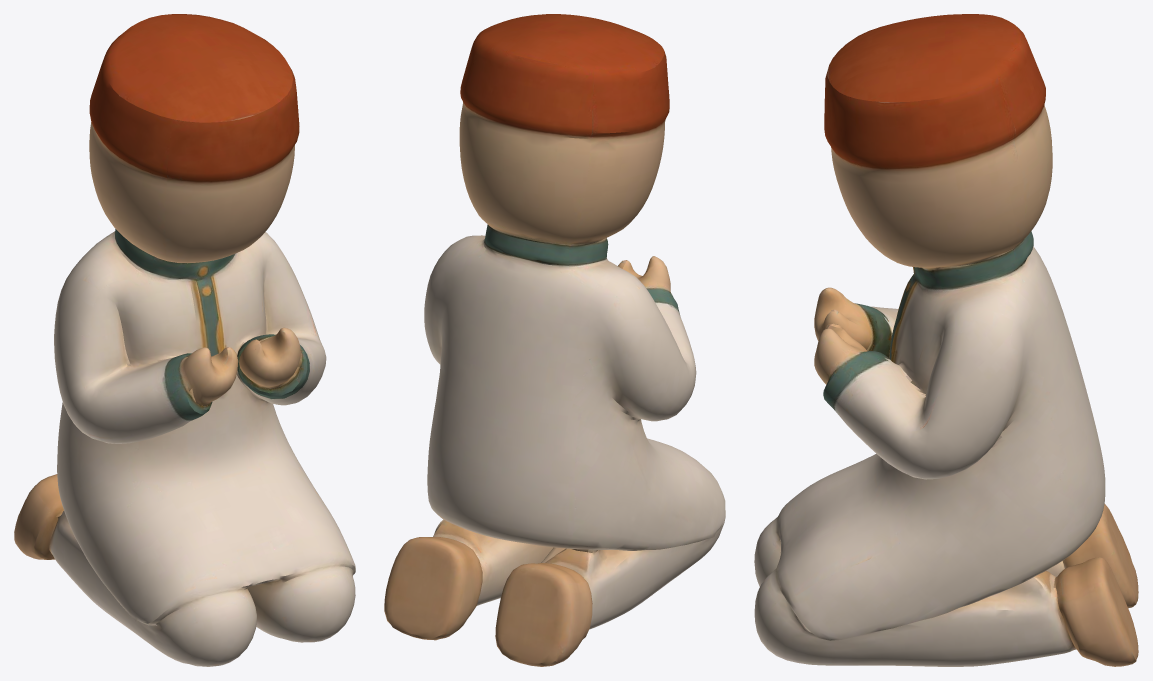
File: Meshy_AI_model.glb
3 renders of one model, left to right at view 1: azimuth 30°, elevation 25°; view 2: azimuth 150°, elevation 25°; view 3: azimuth 270°, elevation 25°, orthographic. The views are drawn at different scales.
Visible parts, largest first — view 1: Mesh0; view 2: Mesh0; view 3: Mesh0.
Part boxes in pixels (x1,y1,x2,y2): Mesh0: [14, 14, 355, 666]; Mesh0: [384, 14, 725, 666]; Mesh0: [754, 14, 1138, 666].
Size of the model in its own units: 0.8685 by 1.9 by 1.1.
Materials: 1 (1 with a texture image).
